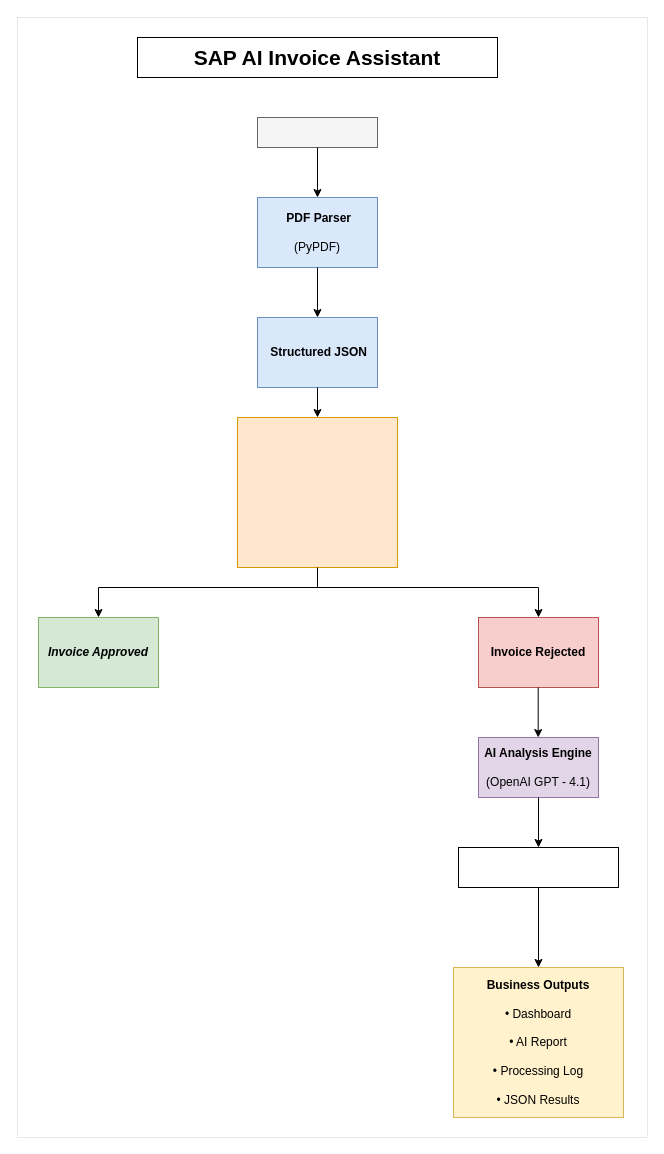
Some shapes in this 664 by 1154 pixel diagram are drawn without their labels. The centre of each missing label's shape, as x and y in pixels:
"Business Rule Validation • Supplier • Mandatory Fields • Amount • Invoice Number" goes at point 317,492.
"Invoice PDF" goes at point 317,132.
"Structured AI Response" goes at point 538,867.
